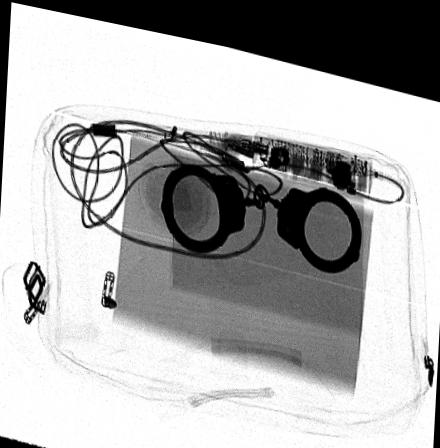HandCuffs: (160, 156, 363, 261)
